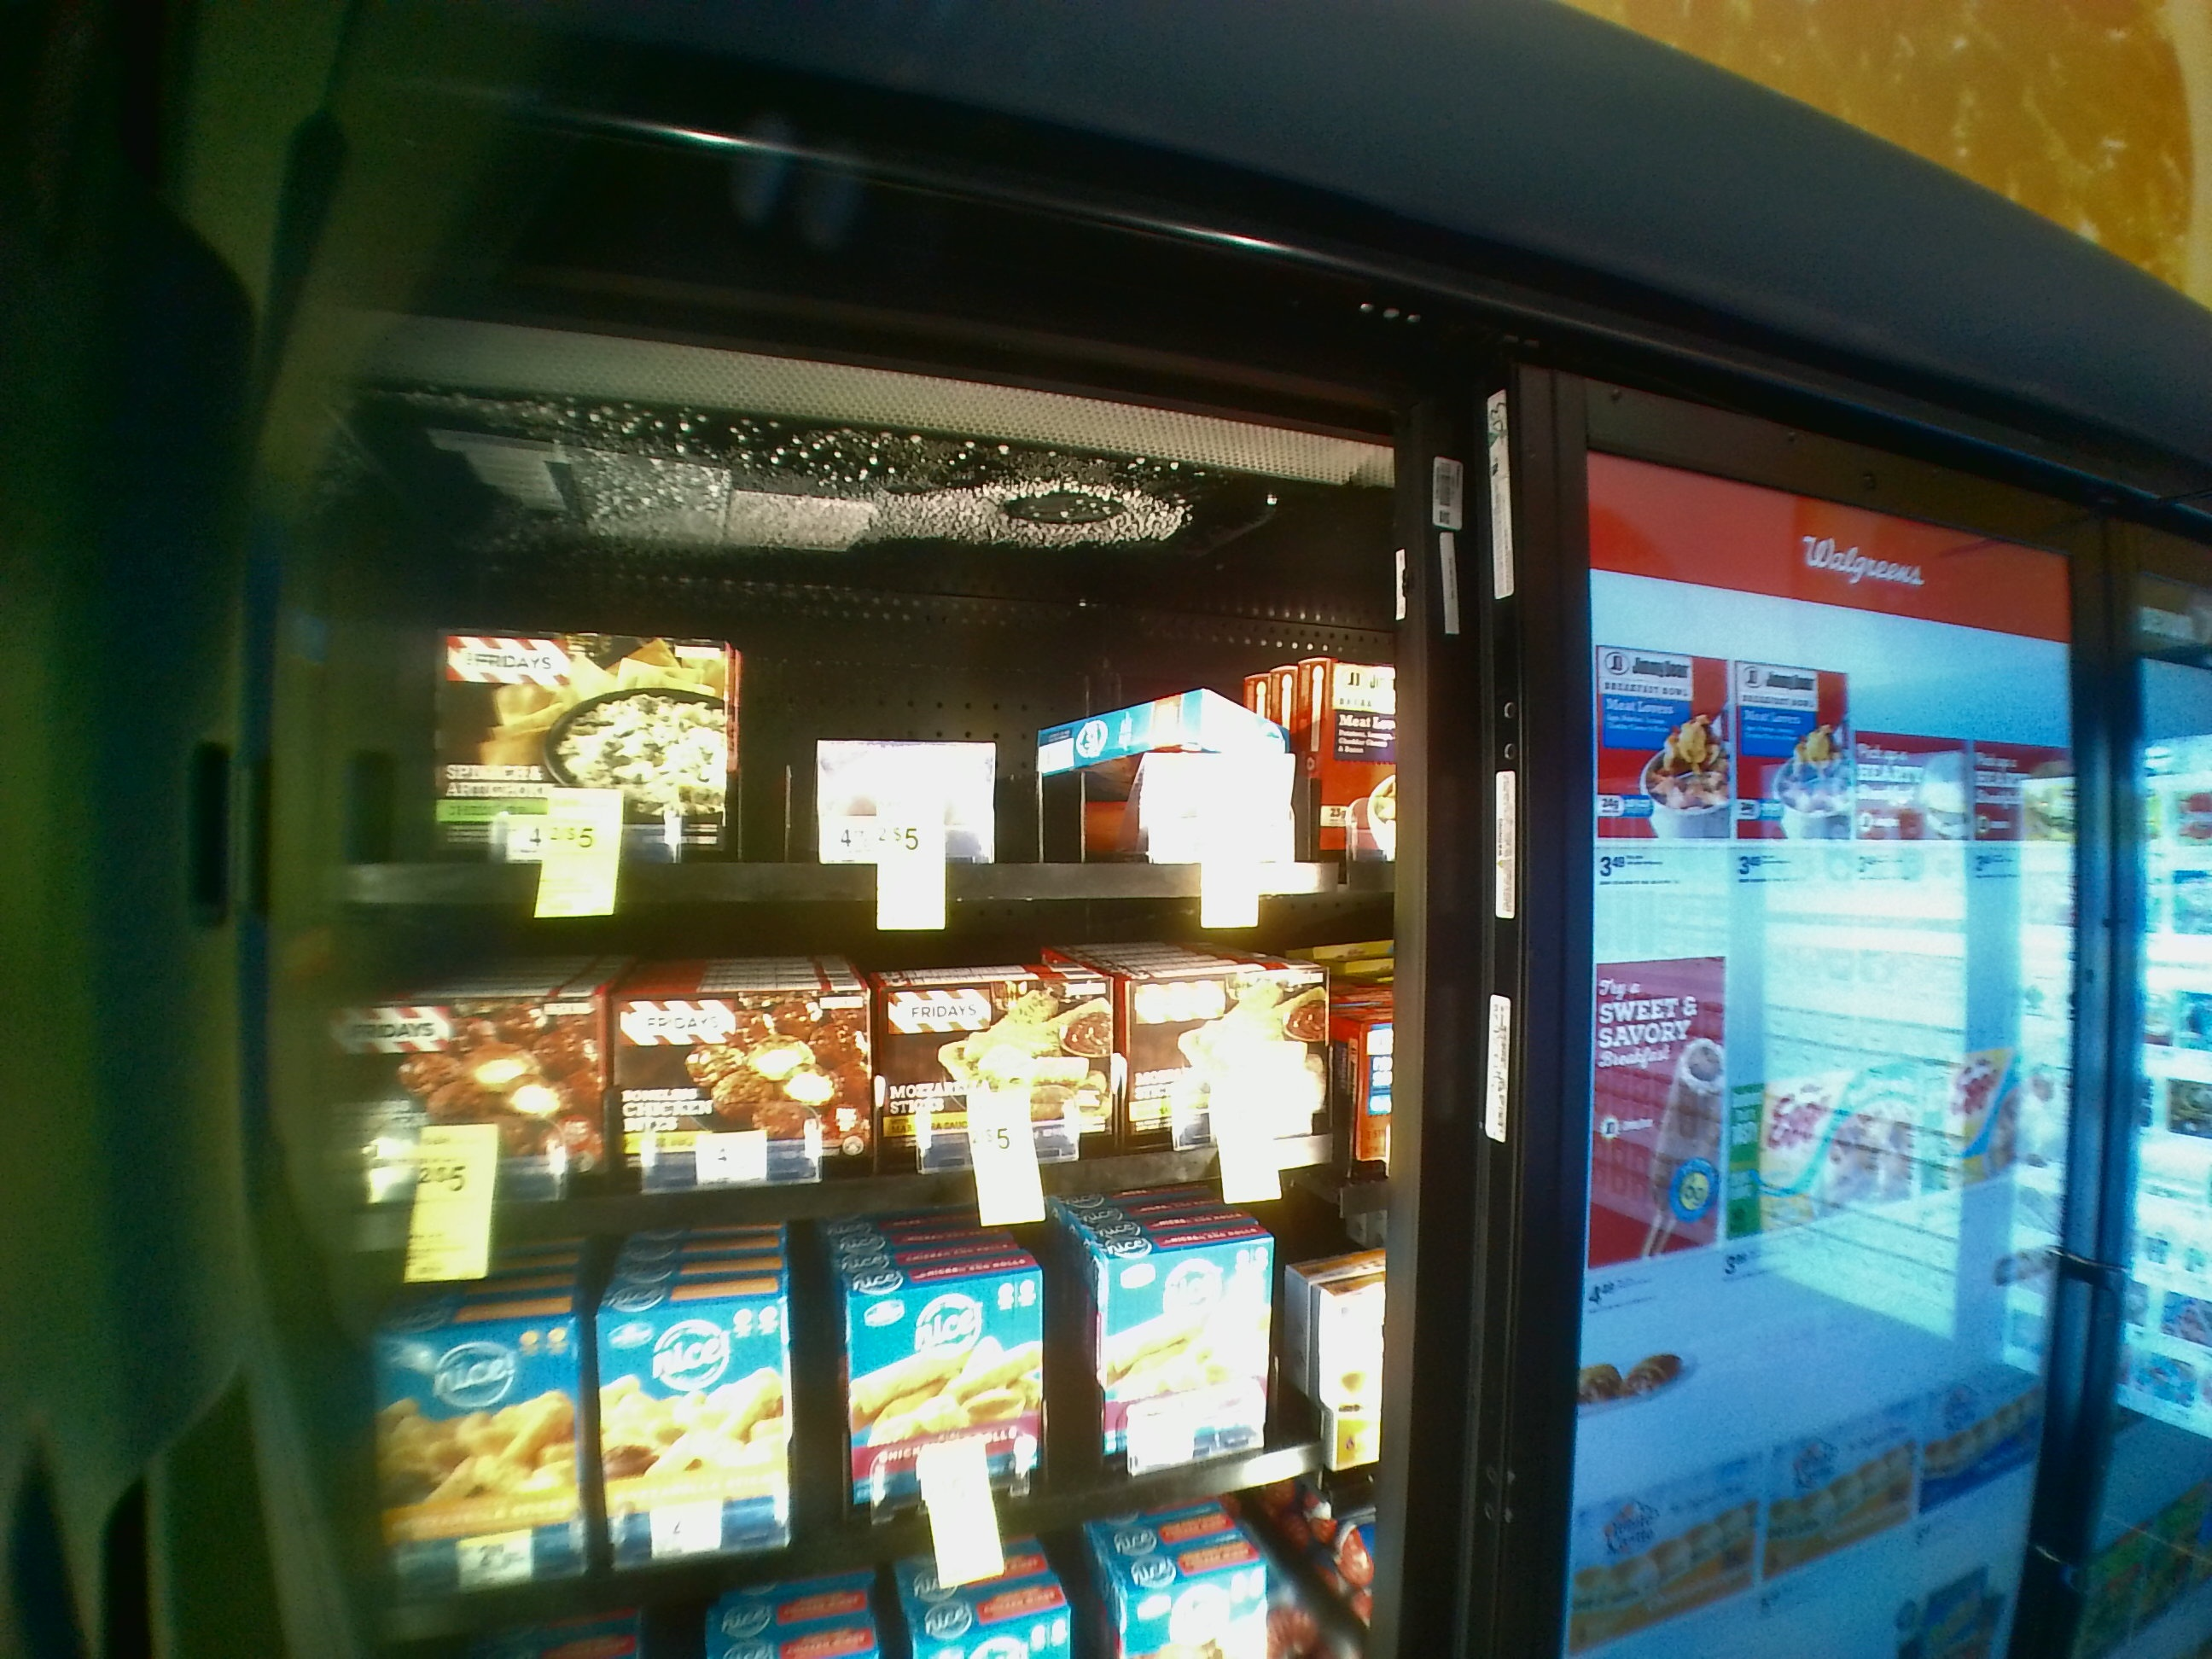shelf: (307, 493, 1367, 913), (308, 927, 1393, 1260)
